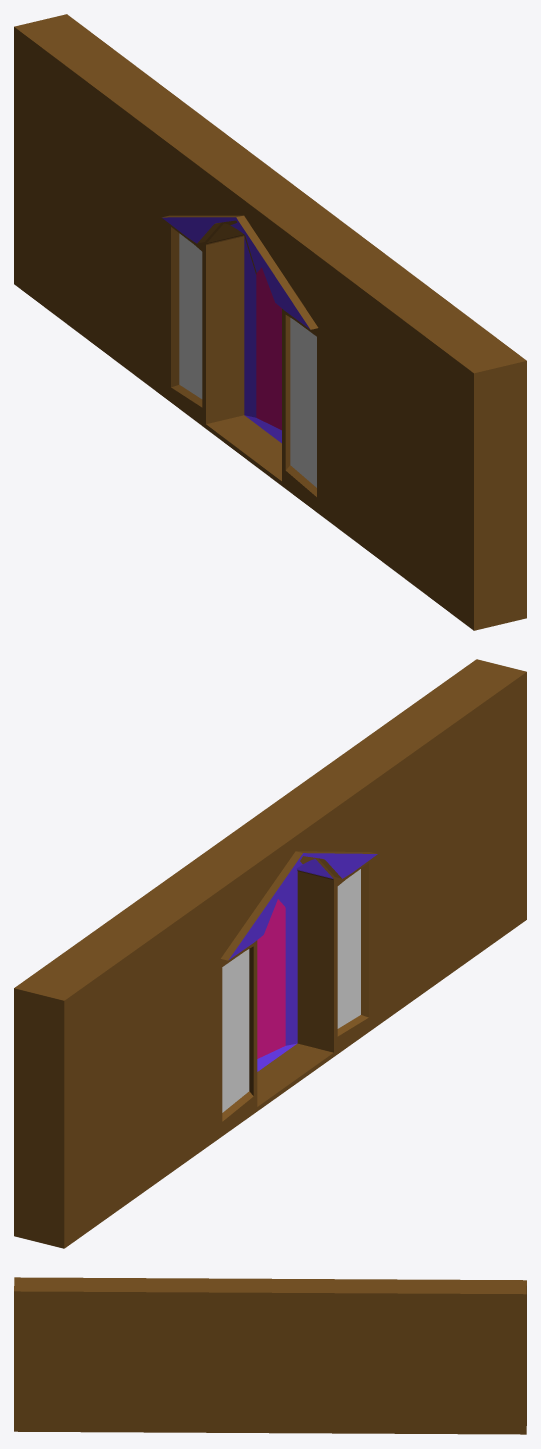
File: Parede com porta.fbx
The picture shows the model from 3 angles, top to bottom: view 1: azimuth 30°, elevation 25°; view 2: azimuth 150°, elevation 25°; view 3: azimuth 270°, elevation 25°; orthographic projection. The views are drawn at different scales.
Parts seen in each view (by area): view 1: Parede com porta; view 2: Parede com porta; view 3: Parede com porta.
Part boxes in pixels (x1,y1,x2,y2): Parede com porta: [14, 14, 526, 630]; Parede com porta: [14, 659, 526, 1248]; Parede com porta: [14, 1277, 526, 1434].
Size of the model in its own units: 467 by 1707 by 5656.
